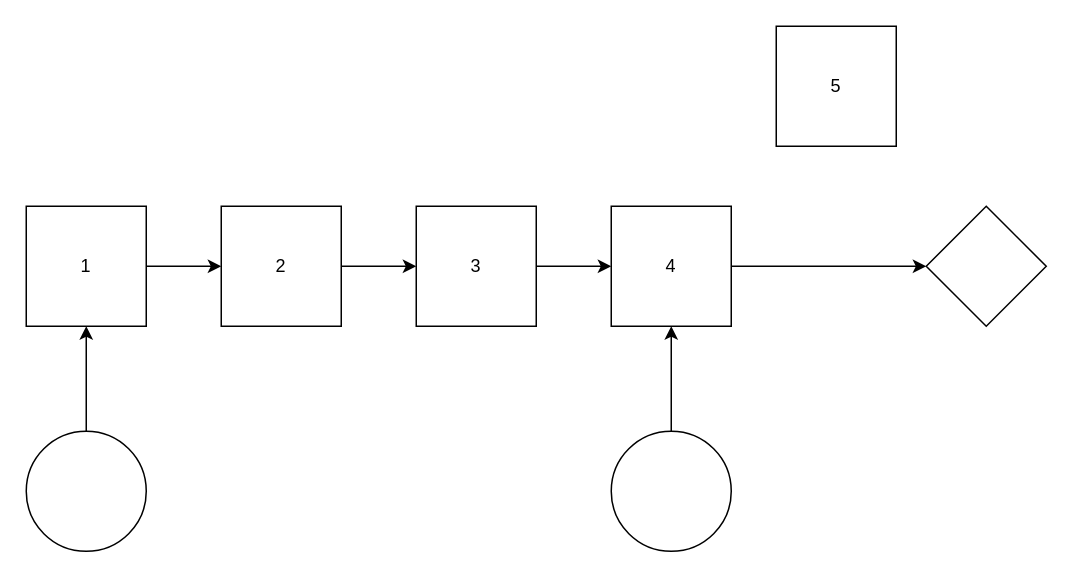
Some shapes in this 1073 by 578 pixel diagram are drawn without their labels. The shapes that lost their labels are listed below. From the top down, each one's box as (x1, y1, x2, y2) in pixels, then its label:
(925, 205, 1046, 326): Null
(25, 430, 146, 551): First
(610, 430, 731, 551): Last
